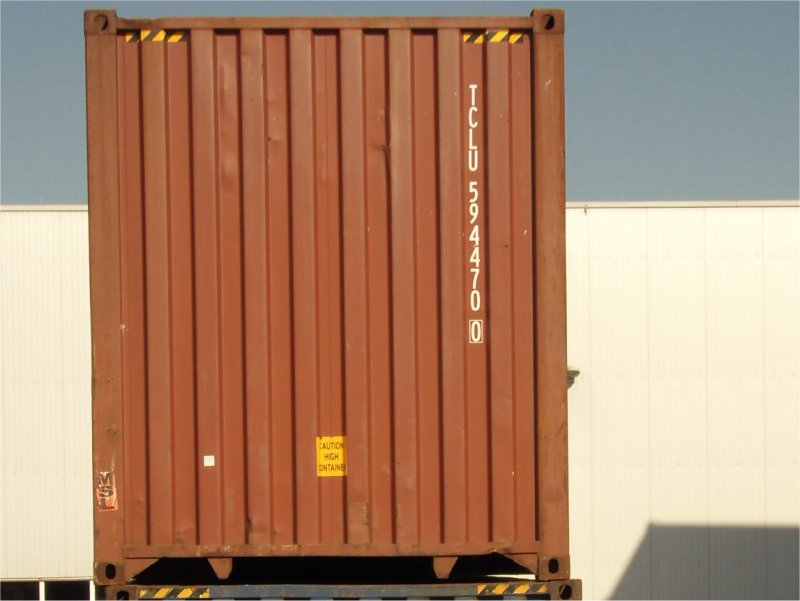container_no_door: (77, 5, 571, 581)
